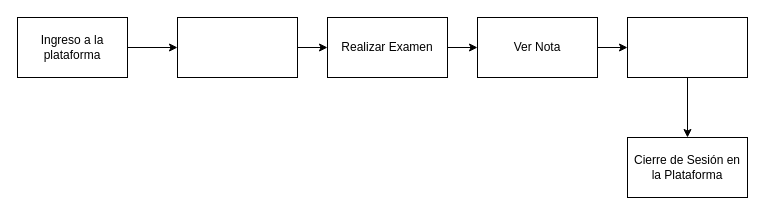
This 765x215 diagram has some shape labels left out. Here are the shapes that lost their labels. From the top down, the box of each, then its label:
(176, 16, 298, 78): Iniciar sesión en la plataforma
(626, 16, 748, 78): Ver Promedio
